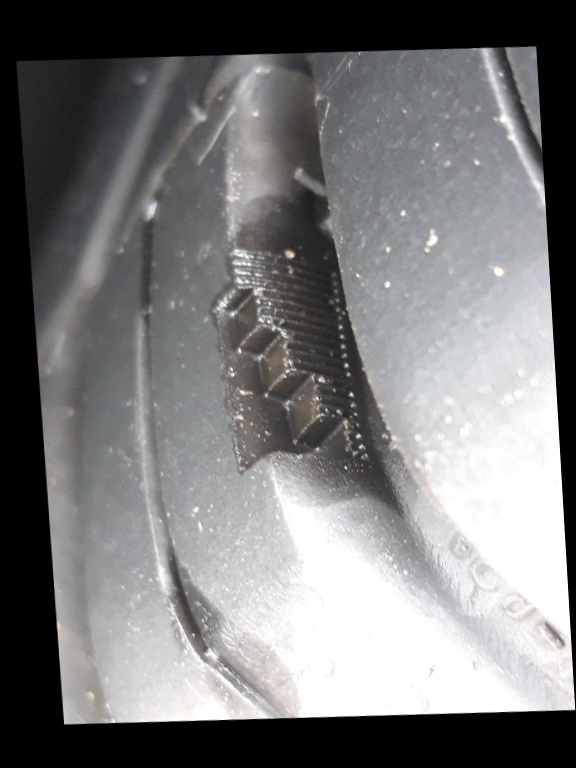temoin:90: (198, 233, 375, 489)
